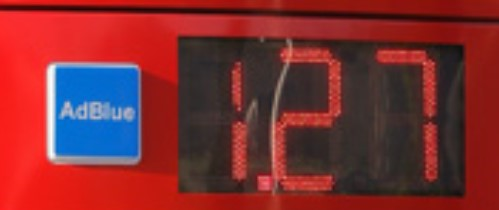digits: (361, 46, 446, 191), (263, 43, 340, 190), (189, 43, 256, 189)
